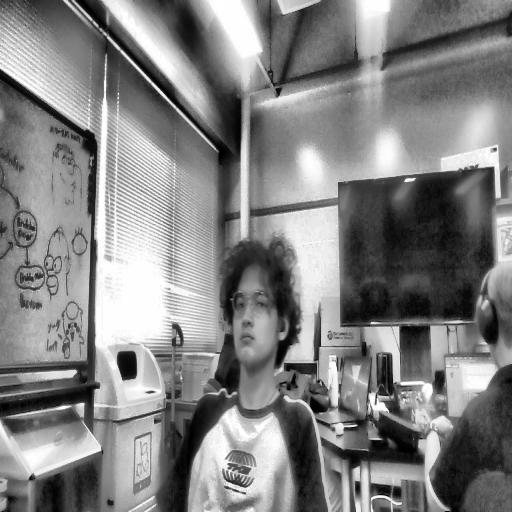Daifuku: (216, 236, 301, 371)
Not Daifuku: (473, 256, 512, 377)
